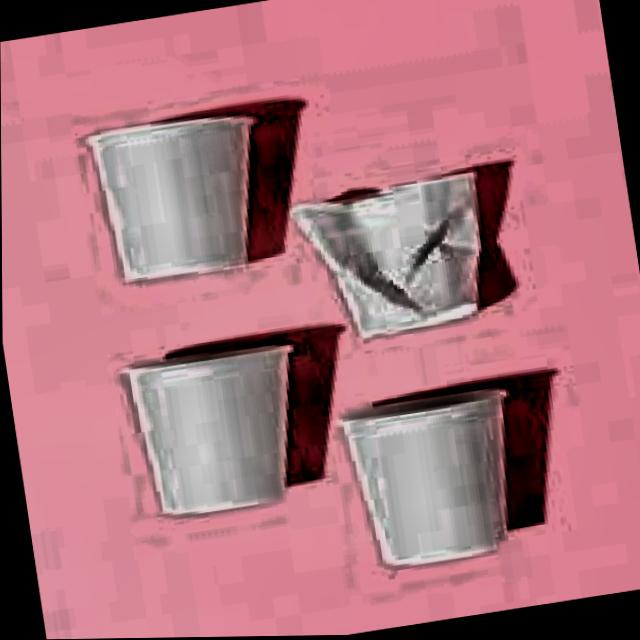Cup: (324, 378, 560, 606), (279, 169, 525, 356), (110, 333, 323, 544), (71, 101, 284, 307)
